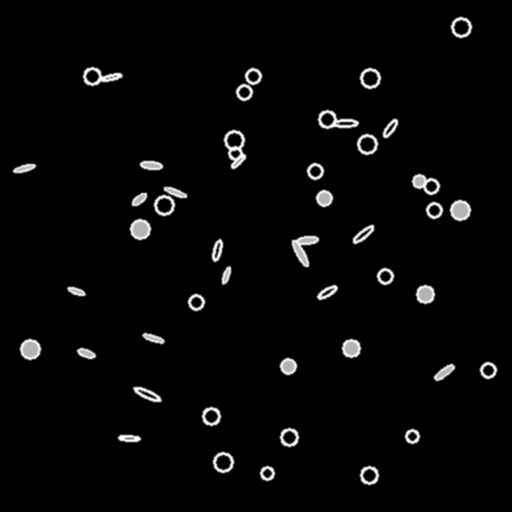pseudomonas: (290, 239, 310, 267), (132, 385, 162, 403), (352, 224, 374, 244), (433, 363, 455, 381), (316, 284, 338, 300), (382, 118, 398, 138), (130, 191, 148, 207), (163, 186, 187, 198), (211, 239, 223, 261), (230, 153, 246, 169), (296, 235, 318, 245), (13, 163, 35, 173), (332, 119, 358, 127), (141, 160, 161, 170), (101, 72, 121, 82), (143, 333, 163, 343), (221, 266, 231, 284), (77, 348, 95, 358), (68, 286, 84, 296), (118, 435, 140, 441)
synechocystis: (155, 196, 173, 214), (21, 340, 39, 358), (358, 135, 376, 153), (214, 453, 232, 471), (225, 131, 243, 149), (452, 18, 470, 36), (361, 69, 379, 87), (451, 201, 469, 219), (131, 220, 149, 238), (343, 340, 359, 356), (203, 408, 219, 424), (417, 286, 433, 302), (84, 68, 100, 84), (281, 429, 297, 445), (361, 467, 377, 483), (319, 111, 335, 127), (246, 69, 260, 83), (237, 85, 251, 99), (317, 191, 331, 205), (189, 295, 203, 309), (481, 363, 495, 377), (427, 203, 441, 217), (378, 269, 392, 283), (308, 164, 322, 178), (281, 359, 295, 373), (424, 179, 438, 193), (413, 175, 425, 187), (229, 147, 241, 159), (406, 430, 418, 442), (261, 467, 273, 479)
